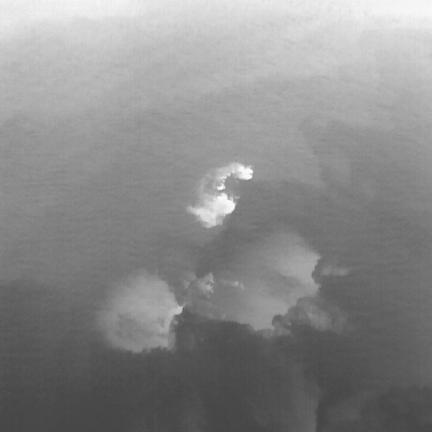flukeprints: (188, 192, 236, 227), (238, 166, 252, 178), (217, 182, 225, 191)
